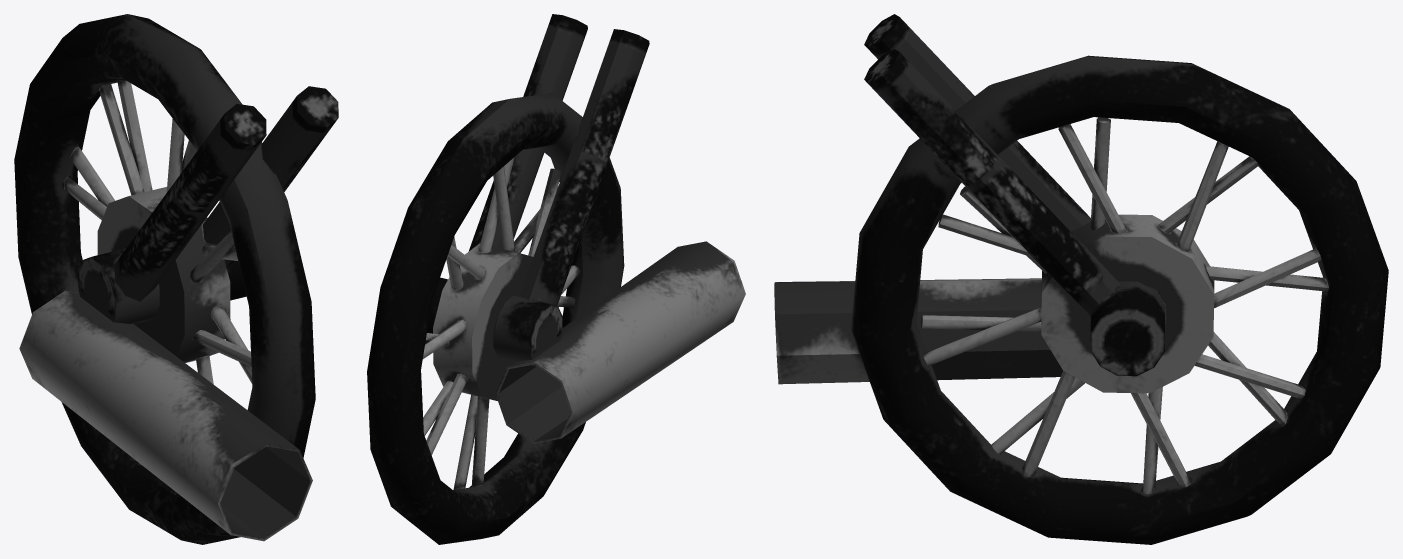
Rendered from wheelR.glb.
3 renders of one model, left to right at view 1: azimuth 30°, elevation 25°; view 2: azimuth 150°, elevation 25°; view 3: azimuth 270°, elevation 25°, orthographic. The views are drawn at different scales.
Parts seen in each view (by area): view 1: shift; view 2: shift; view 3: shift.
Boxes of the visible parts, x1=… form: shift: x1=14, y1=14, x2=338, y2=544; shift: x1=367, y1=14, x2=745, y2=544; shift: x1=774, y1=14, x2=1388, y2=544.
Size of the model in its own units: 16.97 by 40.86 by 44.8.
1 material, 1 textured.
